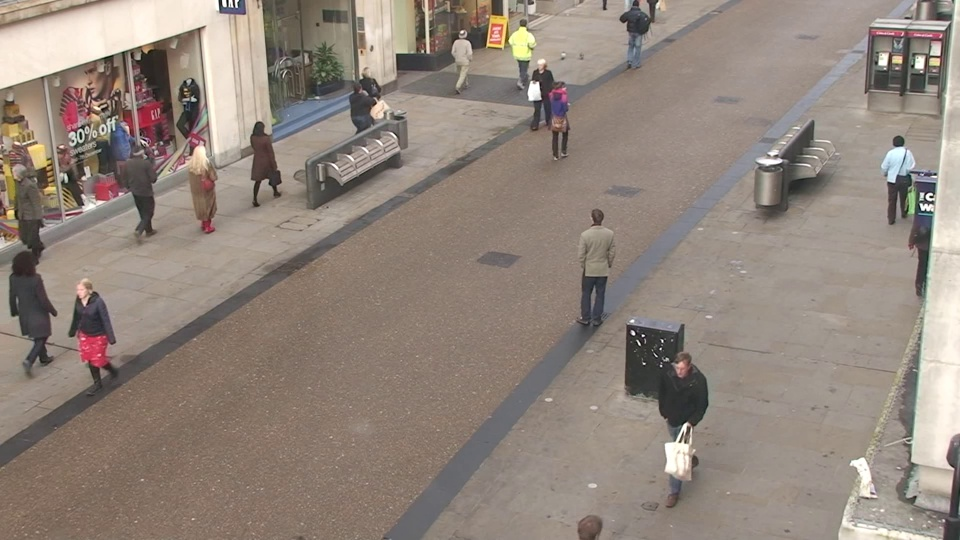pedestrian: (654, 347, 707, 503), (63, 272, 123, 407), (3, 244, 66, 371), (873, 131, 918, 233), (578, 202, 616, 322), (121, 140, 164, 239), (182, 139, 222, 239), (244, 117, 280, 211), (344, 79, 375, 164), (543, 76, 572, 161), (559, 500, 620, 540), (353, 65, 382, 146), (529, 56, 556, 135), (451, 27, 476, 97), (511, 16, 535, 84)
